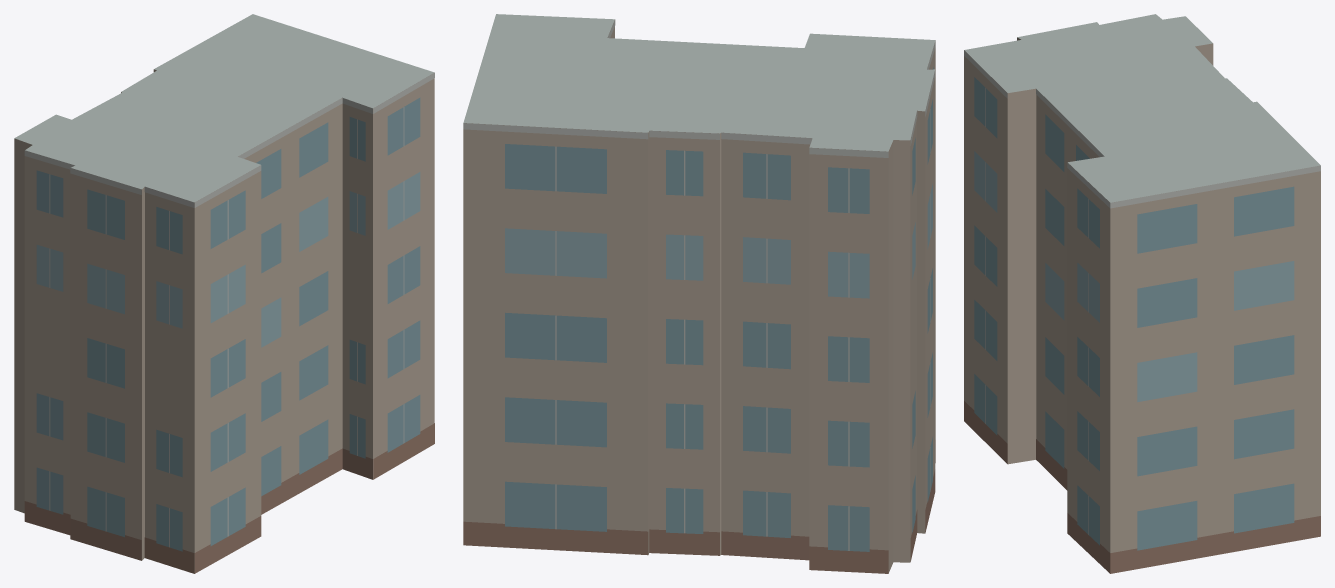
File: survey-upis-32705087.glb
3 views of the same model, side by side, from view 1: azimuth 30°, elevation 25°; view 2: azimuth 150°, elevation 25°; view 3: azimuth 270°, elevation 25° (orthographic). The views are drawn at different scales.
Parts seen in each view (by area): view 1: survey-upis-32705087.tmp; view 2: survey-upis-32705087.tmp; view 3: survey-upis-32705087.tmp.
Part boxes in pixels (left/top/right/bottom): survey-upis-32705087.tmp: left=14, top=14, right=434, bottom=573; survey-upis-32705087.tmp: left=463, top=14, right=935, bottom=573; survey-upis-32705087.tmp: left=964, top=14, right=1320, bottom=573.
Size of the model in its own units: 17.3 by 15.85 by 13.82.
